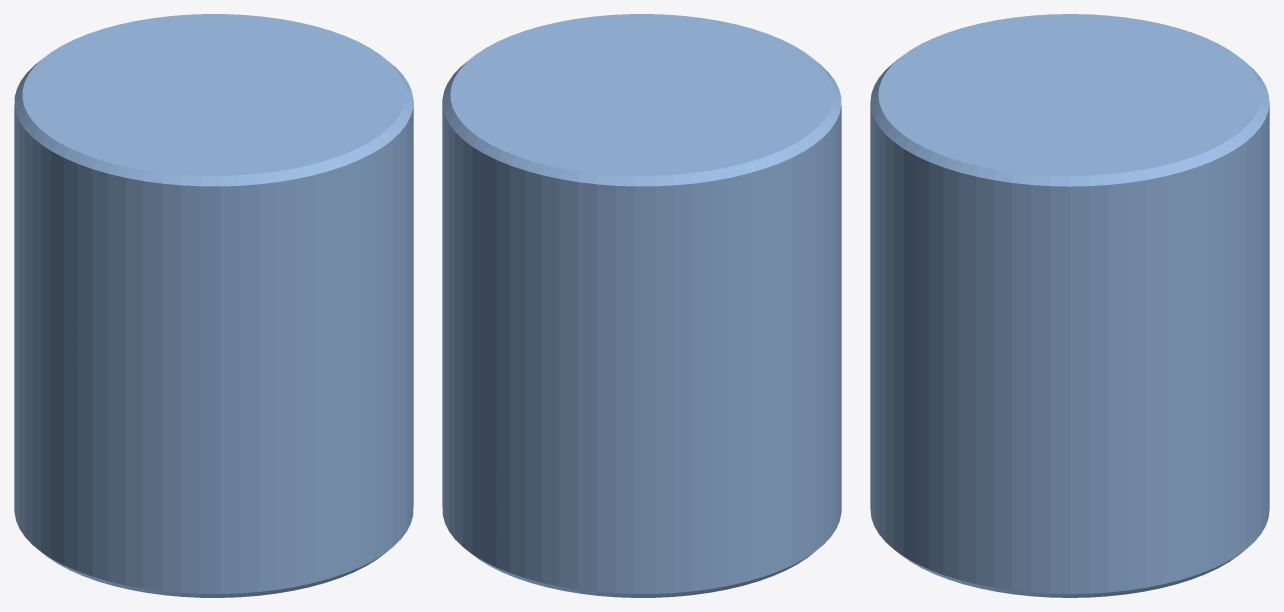
The picture shows the model from 3 angles, left to right: view 1: azimuth 30°, elevation 25°; view 2: azimuth 150°, elevation 25°; view 3: azimuth 270°, elevation 25°; orthographic projection.
Parts seen in each view (by area): view 1: cylinder; view 2: cylinder; view 3: cylinder.
Part boxes in pixels (<box>): cylinder: <box>14,14,413,597</box>; cylinder: <box>442,14,841,597</box>; cylinder: <box>870,14,1269,597</box>.
Size of the model in its own units: 60 by 70 by 60.
